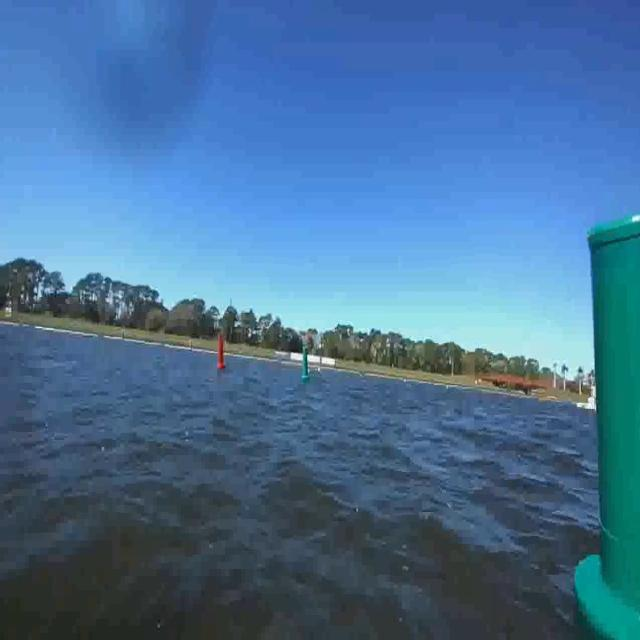green-column-buoy: (579, 216, 638, 639), (296, 344, 316, 399)
red-column-buoy: (215, 323, 228, 377)
